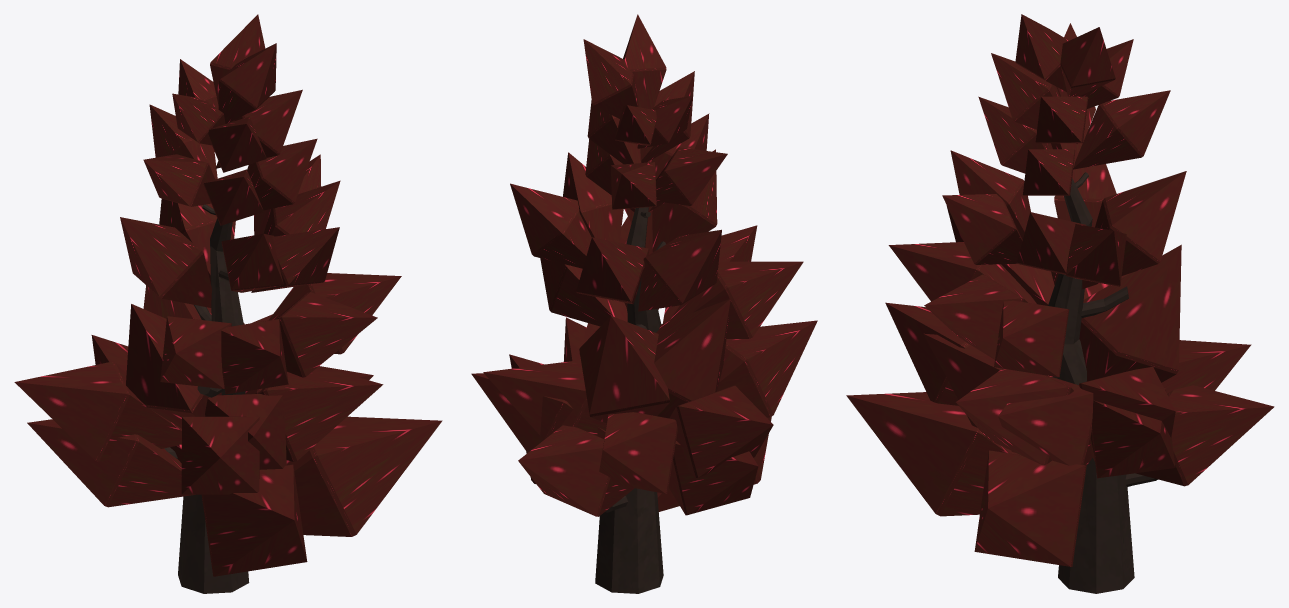
The model's file is tree-purple-red-flowers_6.fbx.
The picture shows the model from 3 angles, left to right: view 1: azimuth 30°, elevation 25°; view 2: azimuth 150°, elevation 25°; view 3: azimuth 270°, elevation 25°; orthographic projection. The views are drawn at different scales.
Visible parts, largest first — view 1: Cube.013; view 2: Cube.013; view 3: Cube.013.
Boxes of the visible parts, left/top/right/bottom form: Cube.013: left=14, top=14, right=442, bottom=593; Cube.013: left=471, top=14, right=817, bottom=593; Cube.013: left=846, top=14, right=1274, bottom=593.
Size of the model in its own units: 193 by 291 by 196.
